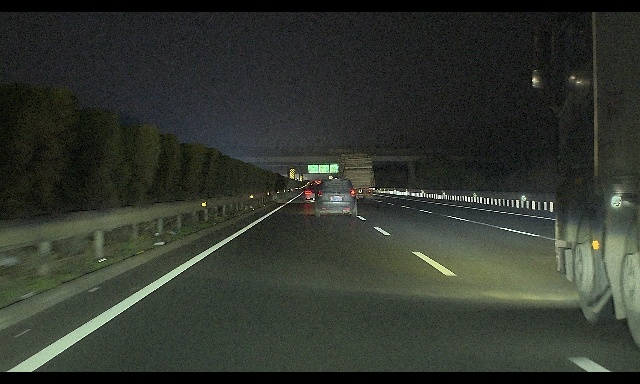car: (314, 178, 358, 218), (302, 186, 324, 203)
truck: (532, 12, 640, 348), (334, 152, 376, 202)
